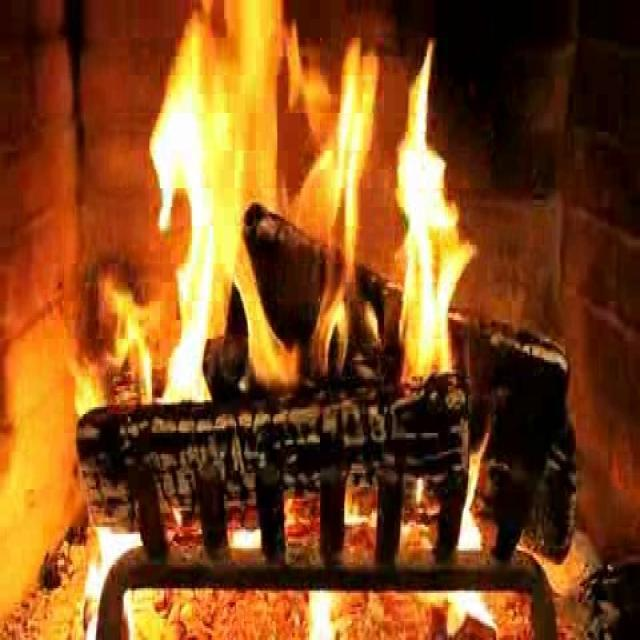Fire: (151, 17, 459, 414)
